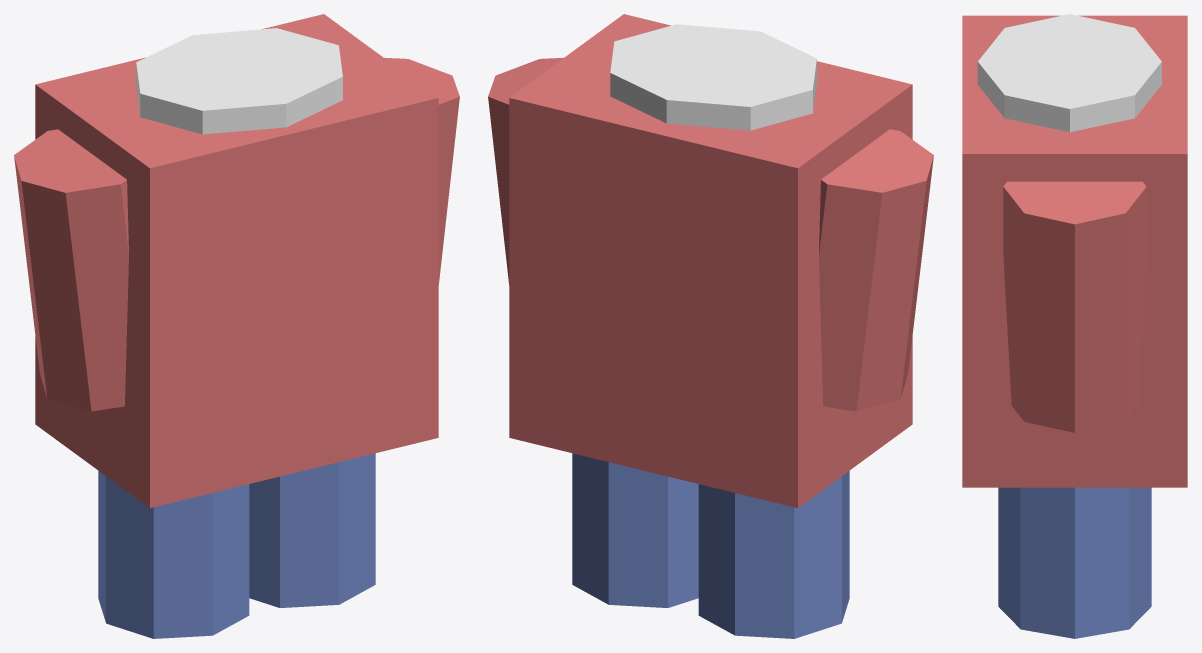
File: arctic_winter.glb
The picture shows the model from 3 angles, left to right: view 1: azimuth 30°, elevation 25°; view 2: azimuth 150°, elevation 25°; view 3: azimuth 270°, elevation 25°; orthographic projection.
Parts seen in each view (by area): view 1: top, sleeve, pant, fur, pant.001, sleeve.001; view 2: top, sleeve, pant, fur, pant.001, sleeve.001; view 3: top, sleeve.001, pant.001, fur.
Boxes of the visible parts, x1,y1,x2,y2 form: top: [35, 14, 438, 508]; sleeve: [14, 129, 128, 411]; pant: [98, 471, 249, 638]; fur: [136, 28, 342, 134]; pant.001: [249, 453, 375, 607]; sleeve.001: [384, 57, 459, 284]; top: [509, 14, 912, 508]; sleeve: [819, 129, 933, 411]; pant: [698, 471, 849, 638]; fur: [610, 24, 816, 130]; pant.001: [572, 453, 698, 607]; sleeve.001: [488, 57, 563, 284]; top: [962, 15, 1187, 487]; sleeve.001: [1003, 181, 1146, 432]; pant.001: [998, 487, 1151, 638]; fur: [977, 14, 1161, 132].
Bounding box in the file's own units: 0.4777 × 0.555 × 0.22.
